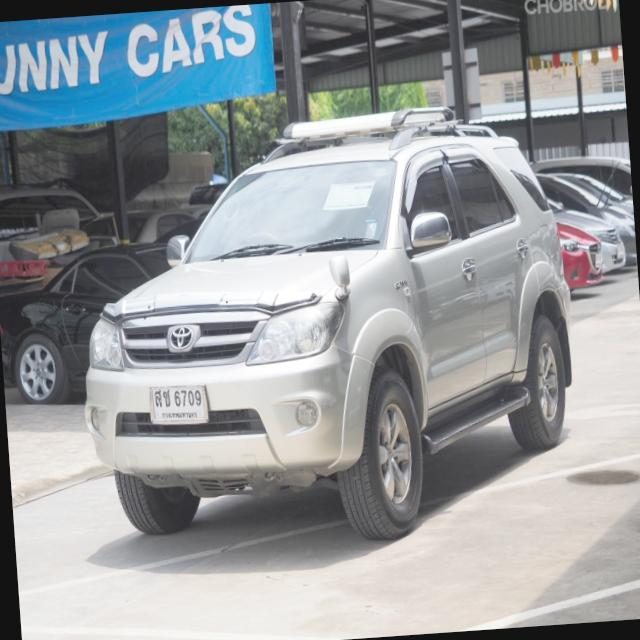license_plate: (147, 383, 210, 424)
